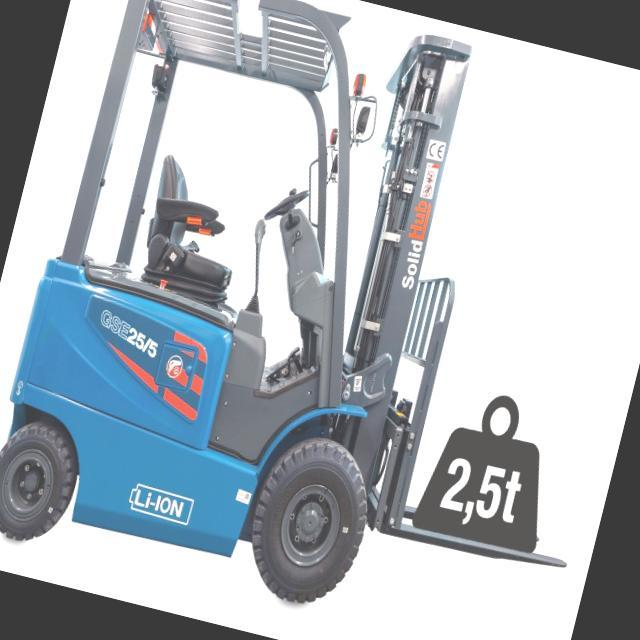forklift: (0, 0, 513, 639)
